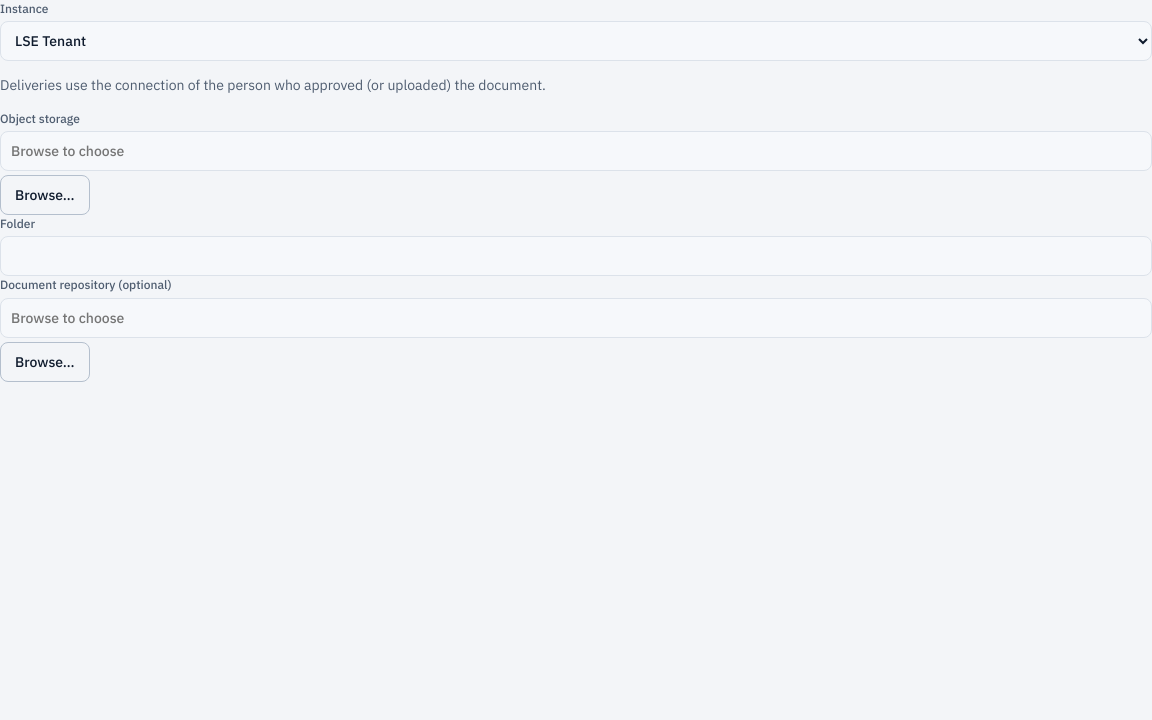
Test: SinkTargetFields › shows a picked storage by its name and project, with its id in brackets
Step 1. Click the button with aria-label "Browse Object storage" → click(45, 195), box x1=0 y1=175 x2=90 y2=215
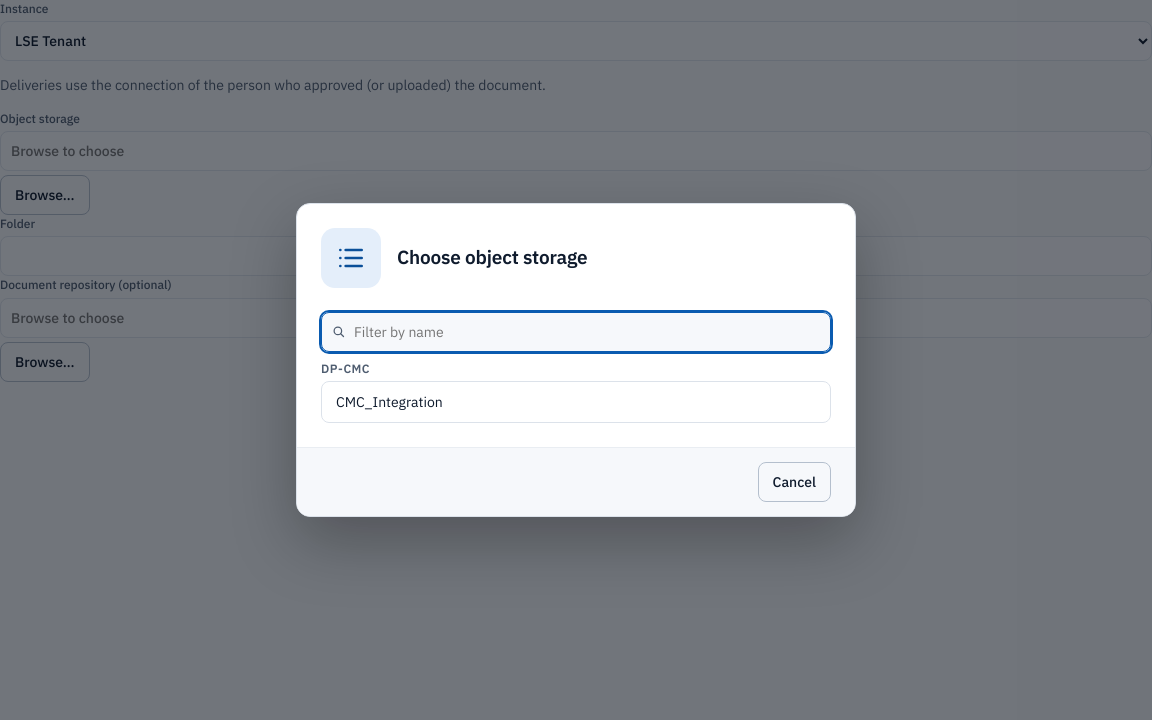
Step 2. Click the button "CMC_Integration" → click(389, 402), box x1=322 y1=382 x2=830 y2=422
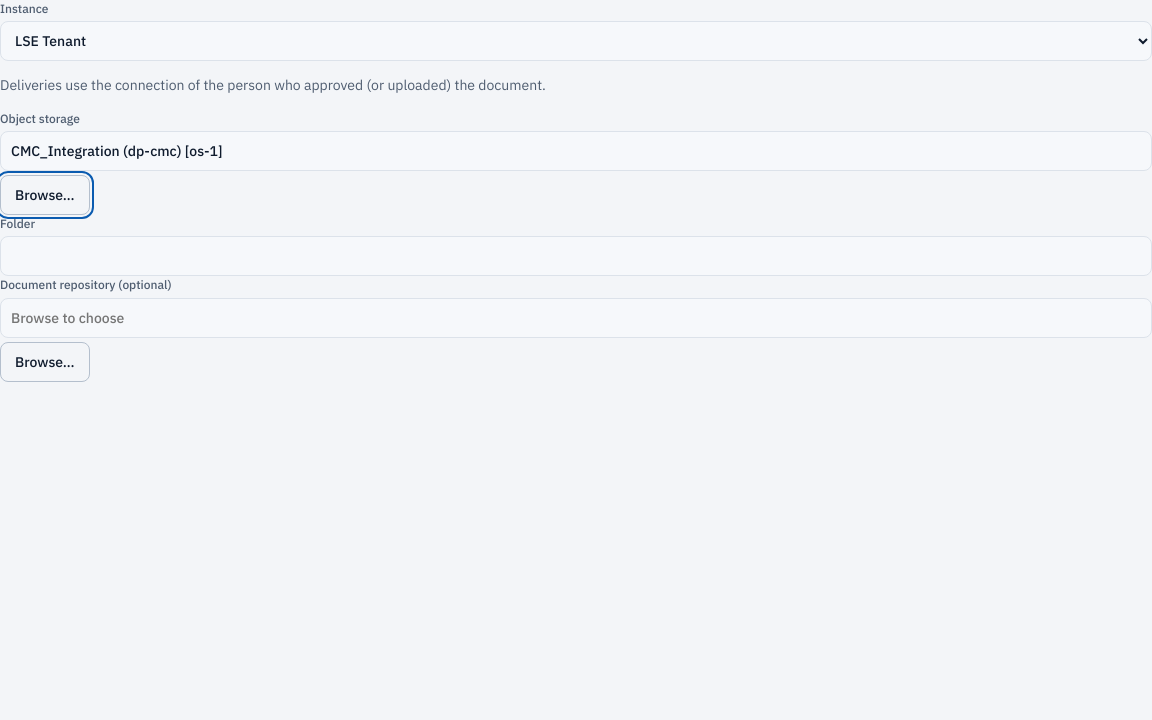
Now the field labelled "Object storage" holds "CMC_Integration (dp-cmc) [os-1]", box x1=0 y1=131 x2=1151 y2=171
